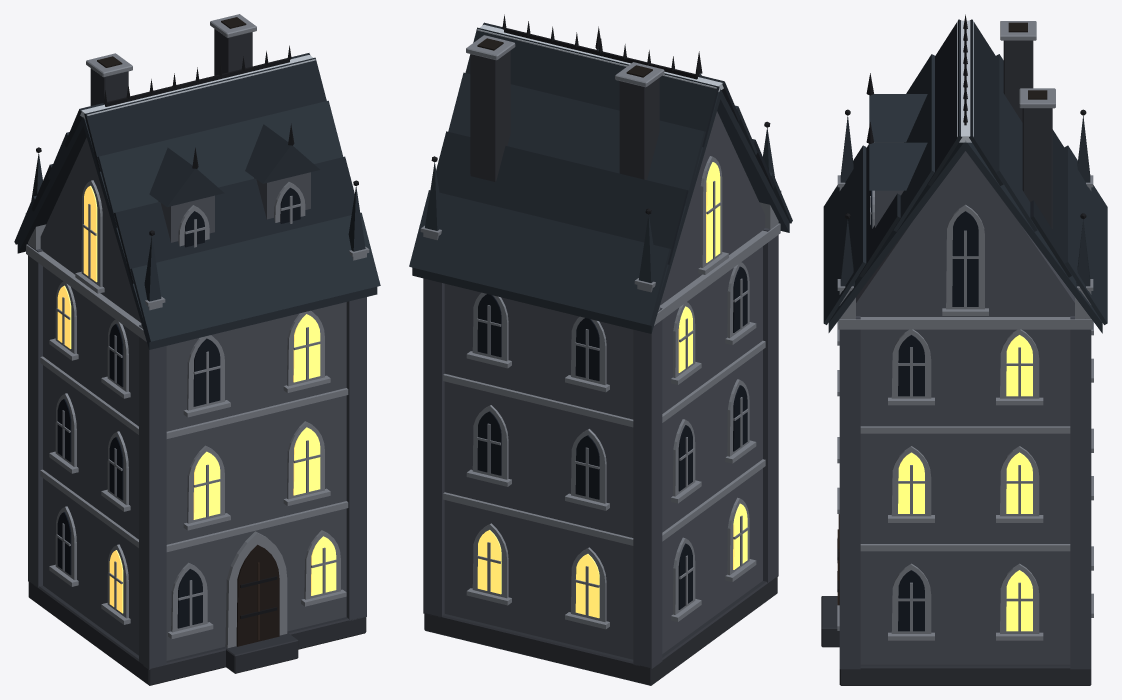
Rendered from gothic_house_a.glb.
3 views of the same model, side by side, from view 1: azimuth 30°, elevation 25°; view 2: azimuth 150°, elevation 25°; view 3: azimuth 270°, elevation 25° (orthographic). The views are drawn at different scales.
Parts seen in each view (by area): view 1: gothic_house_a; view 2: gothic_house_a; view 3: gothic_house_a.
Boxes of the visible parts, left/top/right/bottom form: gothic_house_a: left=14, top=14, right=380, bottom=685; gothic_house_a: left=409, top=14, right=792, bottom=685; gothic_house_a: left=821, top=14, right=1107, bottom=685.
Size of the model in its own units: 5.74 by 13.15 by 5.96.
